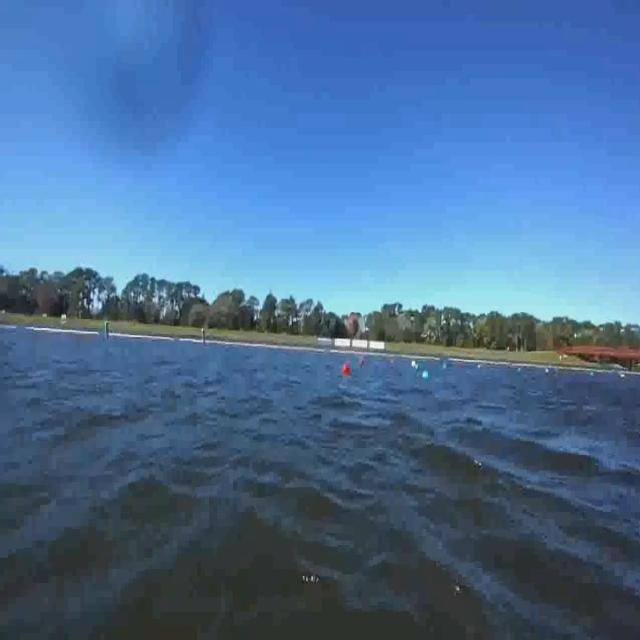red-buoy: (343, 362, 350, 375)
